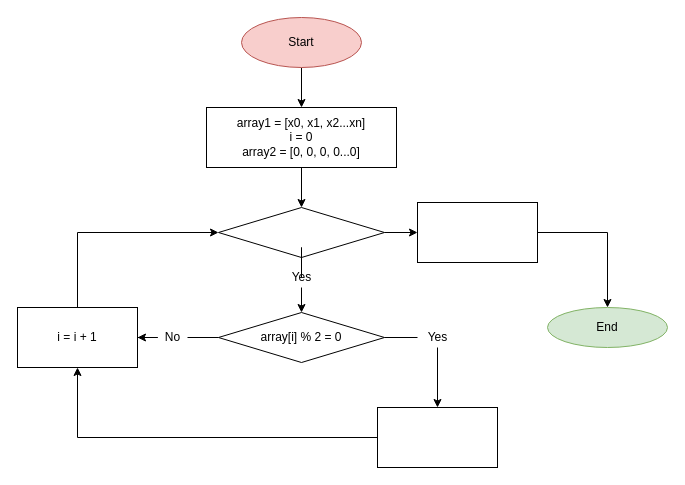
Some shapes in this 685 by 485 pixel diagram are drawn without their labels. Here are the shapes that lost their labels. From the top down, the centre of each, then its label:
point 301,232: i < n
point 477,232: return array2
point 437,437: array2[i] = array[i]
